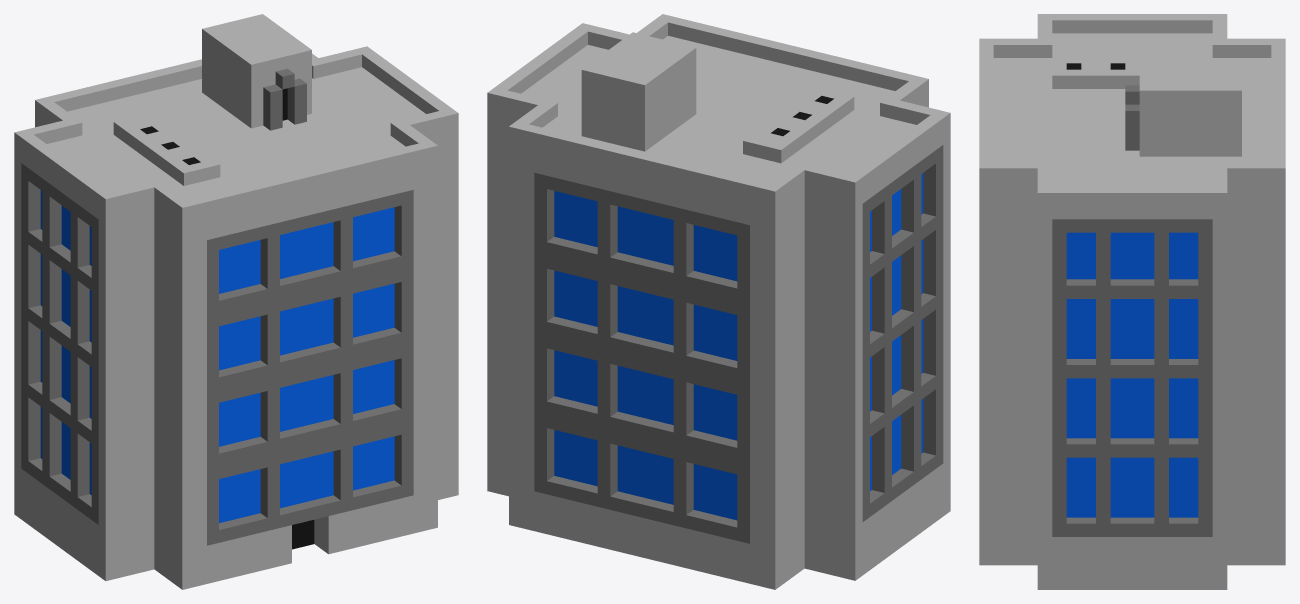
The model's file is Building 2.obj.
The picture shows the model from 3 angles, left to right: view 1: azimuth 30°, elevation 25°; view 2: azimuth 150°, elevation 25°; view 3: azimuth 270°, elevation 25°; orthographic projection. The views are drawn at different scales.
Size of the model in its own units: 2.9 by 3.4 by 2.1.
Materials: 1 (1 with a texture image).
